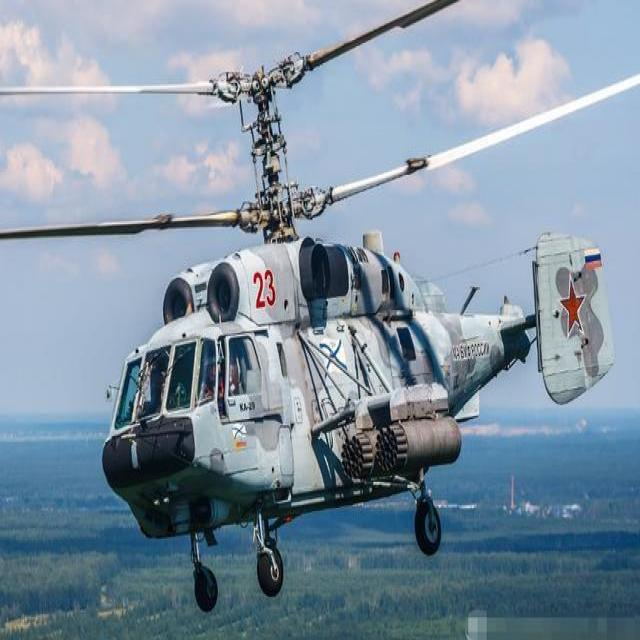MIL_HELO: (0, 0, 638, 604)
